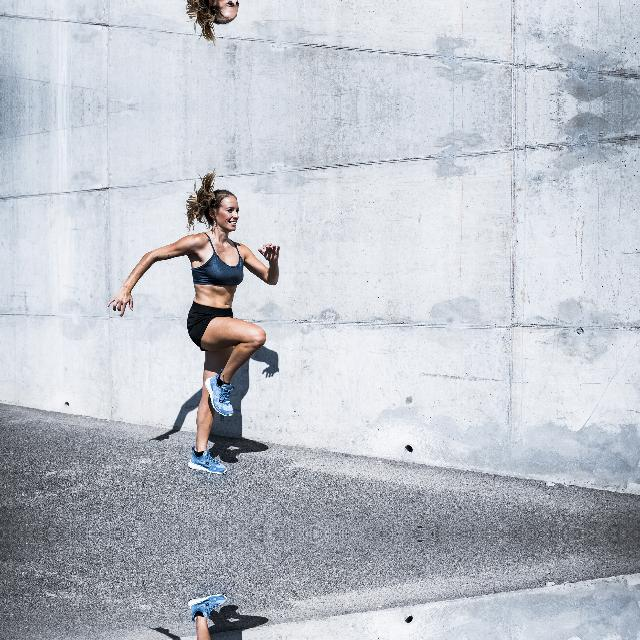person: (138, 172, 292, 450), (138, 0, 291, 39), (138, 617, 291, 640)
